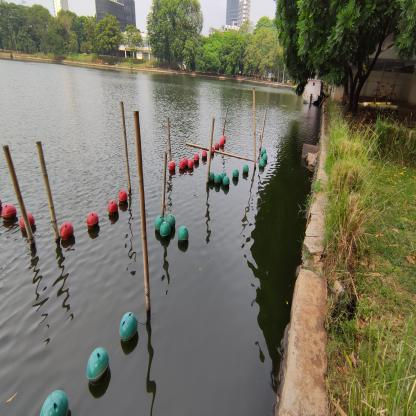green_buoy: (86, 346, 110, 387), (39, 389, 70, 415), (119, 310, 139, 346), (159, 221, 171, 240), (154, 214, 165, 233), (178, 225, 188, 244), (166, 214, 176, 230), (232, 168, 240, 180), (222, 176, 230, 188), (214, 174, 221, 186), (242, 164, 249, 174), (220, 172, 227, 182), (209, 172, 215, 182), (259, 159, 265, 168), (262, 153, 268, 161), (261, 148, 266, 155)
red_buoy: (20, 212, 36, 233), (60, 221, 74, 242), (1, 204, 17, 222), (86, 212, 100, 230), (107, 200, 118, 217), (118, 189, 128, 205), (168, 160, 176, 172), (178, 160, 186, 171), (188, 159, 194, 170), (182, 158, 188, 168), (194, 154, 199, 164), (202, 150, 207, 160), (214, 142, 220, 150), (221, 135, 226, 142), (220, 139, 224, 147), (211, 146, 214, 155)
